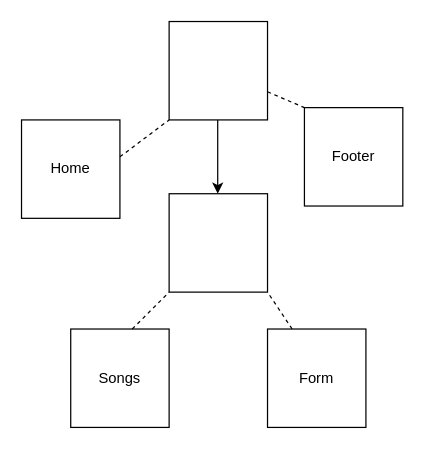
Some shapes in this 424 by 449 pixel diagram are drawn without their labels. Each missing label, with the centre of its shape:
"App" goes at point 218,70.
"Navbar" goes at point 218,242.
